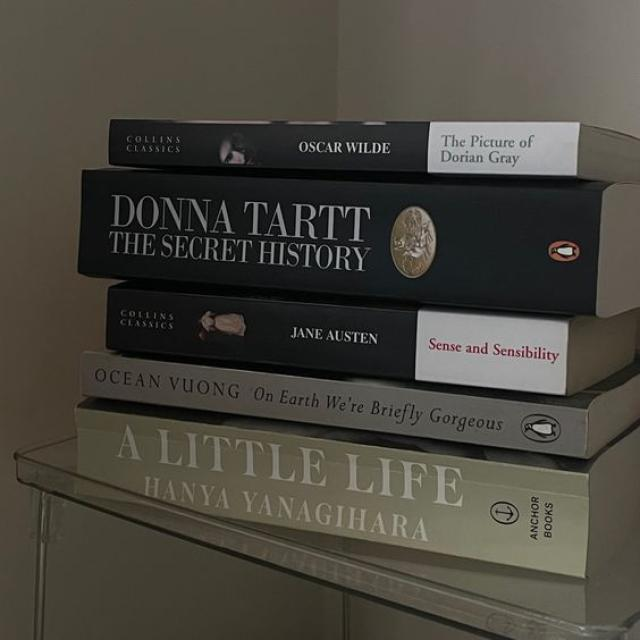book: (77, 410, 589, 576), (77, 168, 639, 315), (106, 283, 639, 395), (82, 352, 639, 457), (108, 119, 639, 180)
